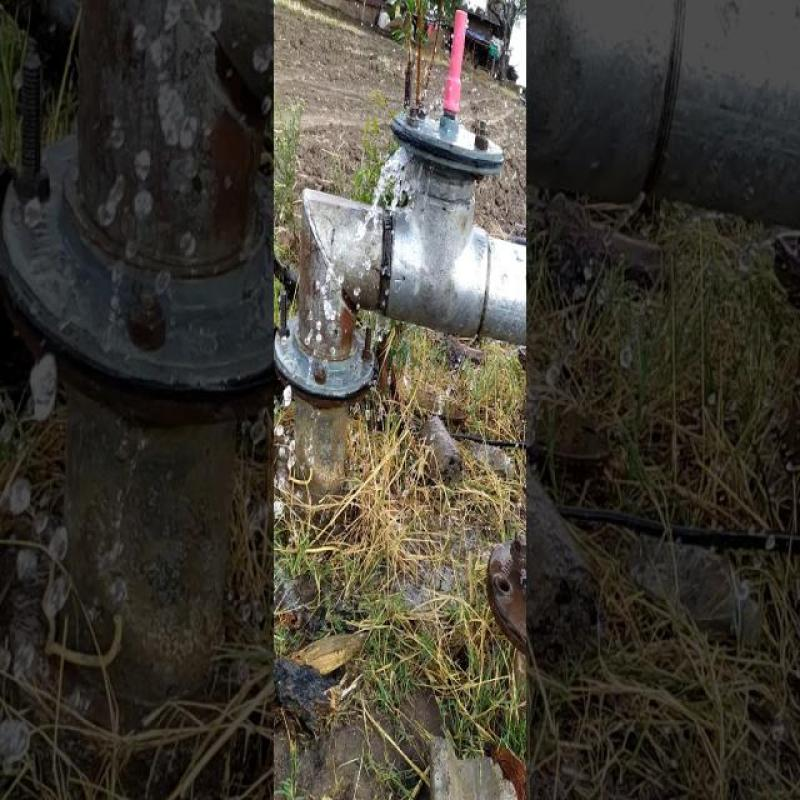Fracture: (275, 75, 496, 446)
